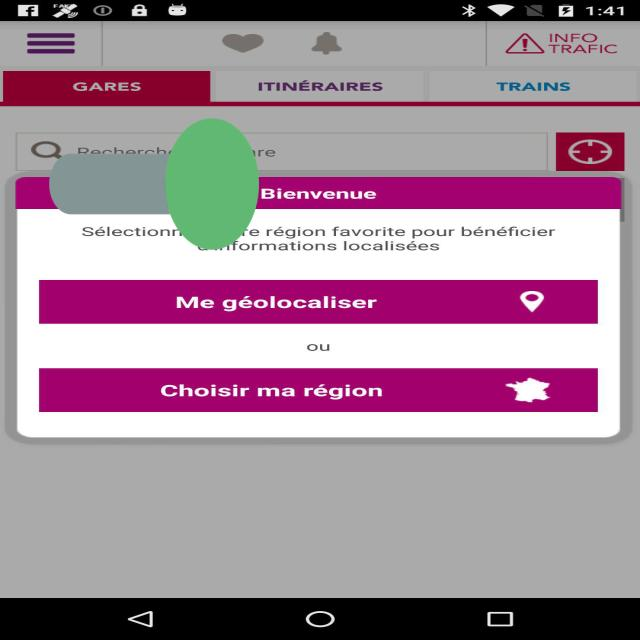social proof: (49, 37, 259, 331)
